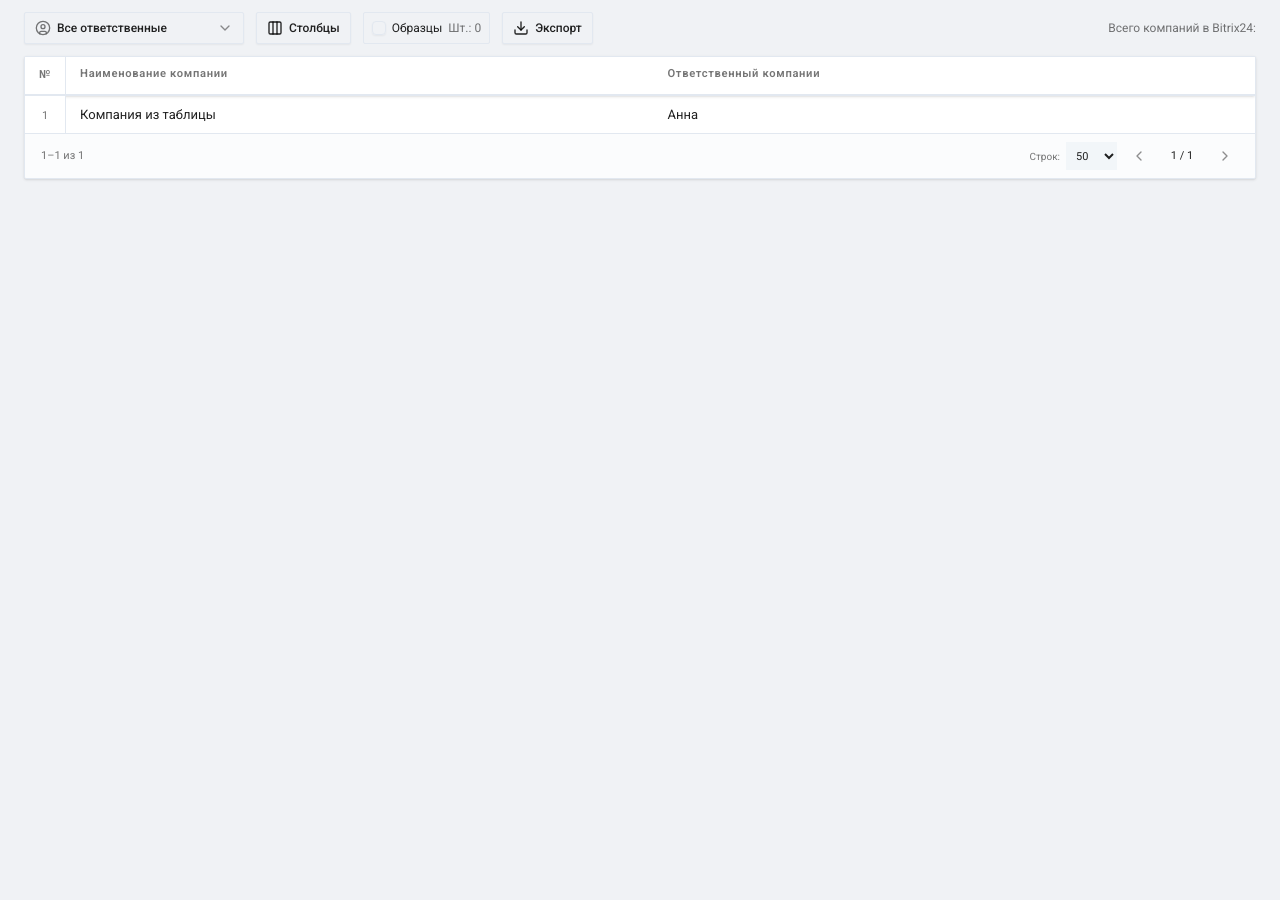
renders specific error message when related deals API returns 403 or 404
Click the button "Компания из таблицы". click: (148, 115)
box: [80,105,216,124]
(page scrolled)
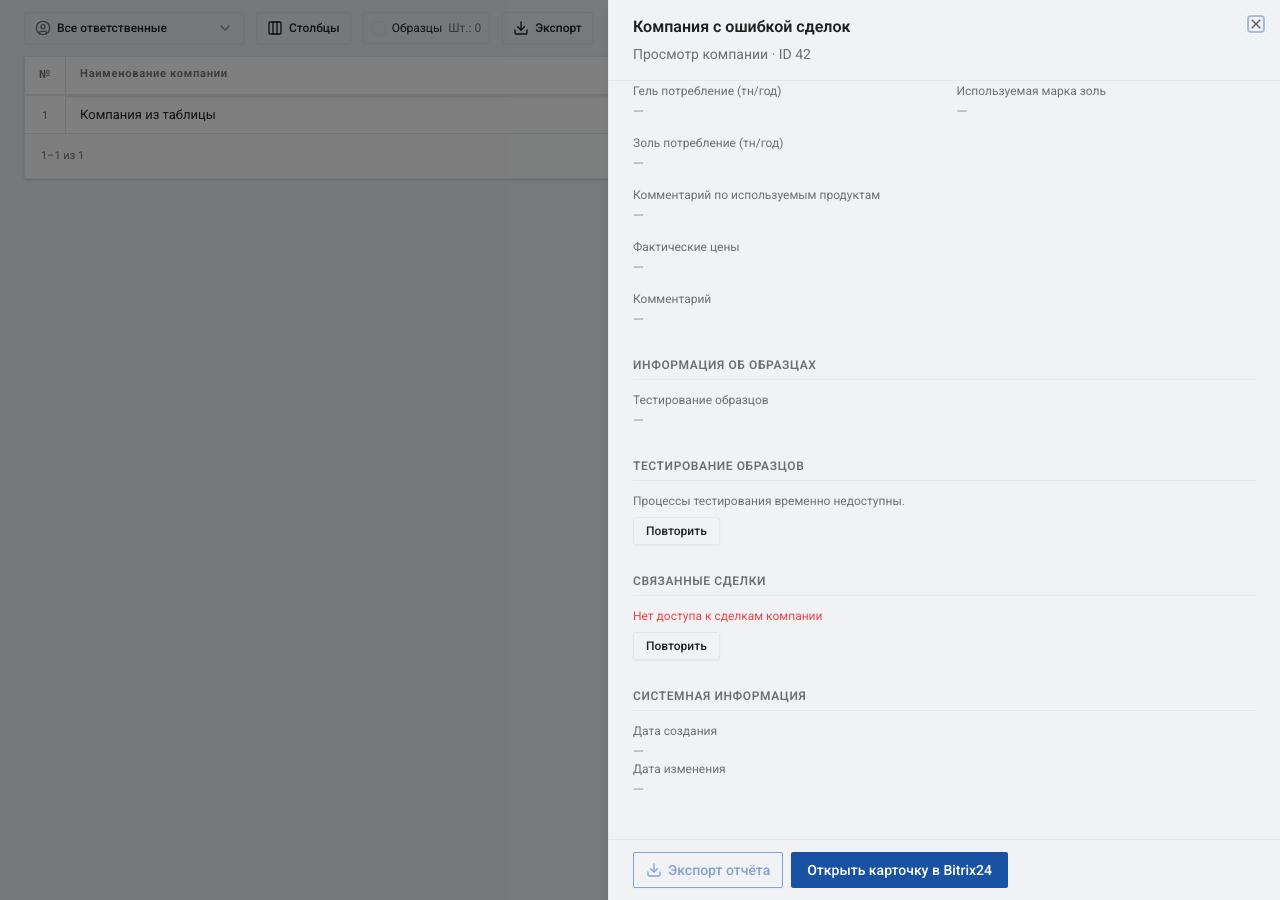
Expected: the heading "Компания с ошибкой сделок" is shown, [633,17,850,36]
Expected: the text "Нет доступа к сделкам компании" is shown, [633,609,822,623]
